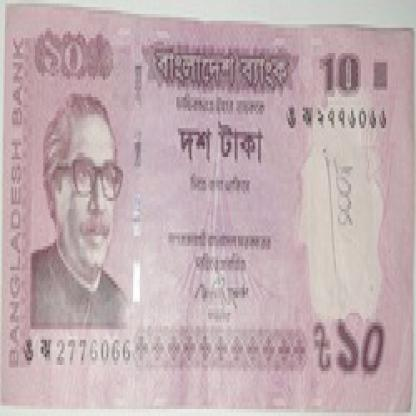Ten Taka: (310, 288, 396, 398), (38, 35, 95, 97), (321, 55, 368, 111)
